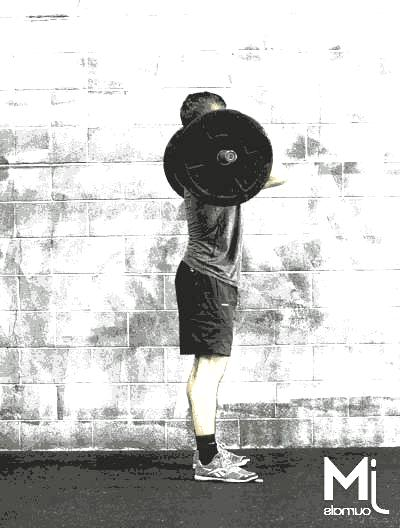Barbell: (219, 148, 240, 165)
